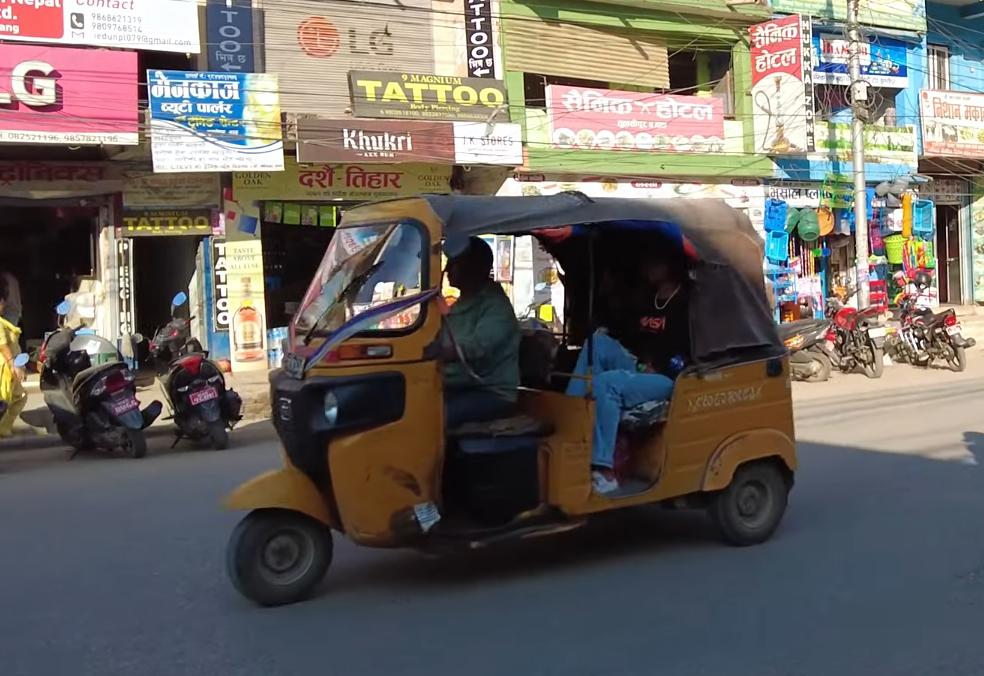auto_rickshaw: (217, 187, 810, 613)
bike: (892, 272, 975, 375), (824, 283, 887, 382)
scooter: (9, 297, 155, 454), (146, 286, 243, 451), (779, 316, 837, 384)
